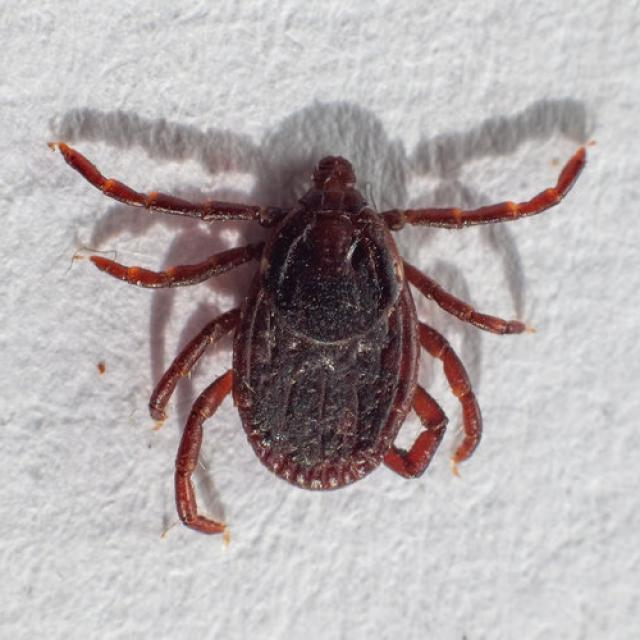Rhipicephalus Sanguineus-F: (47, 133, 585, 538)
